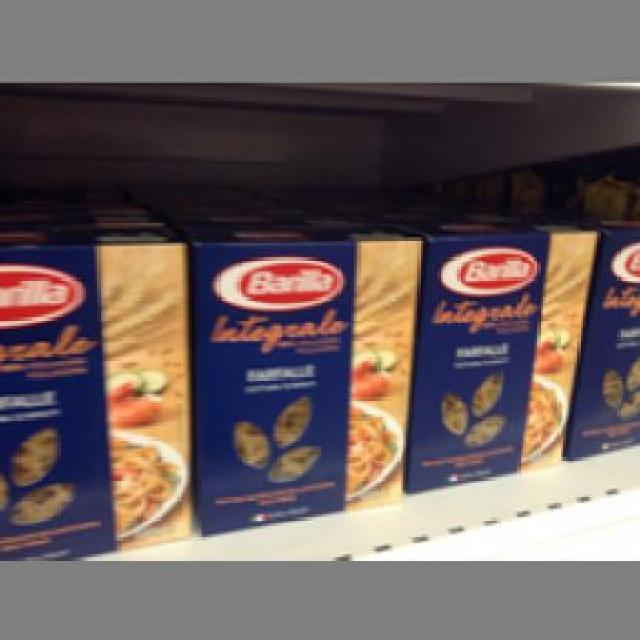Pasta: (180, 216, 423, 530), (0, 220, 189, 554), (392, 214, 594, 492)
